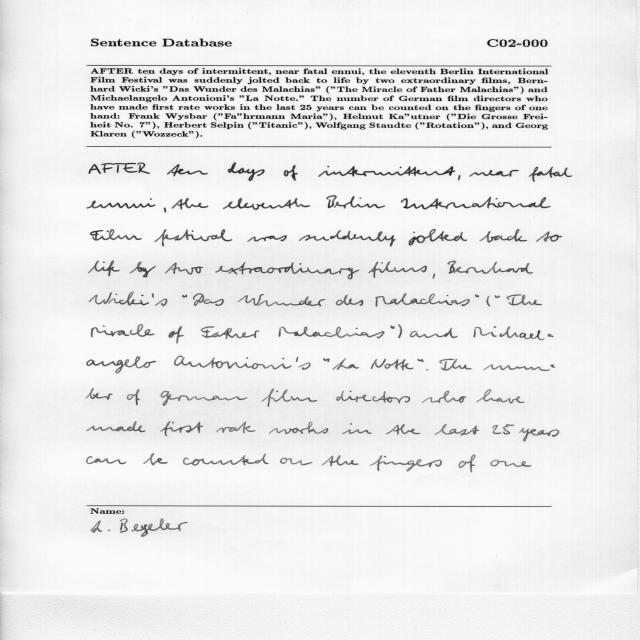word: (215, 262, 359, 279), (174, 355, 311, 370), (401, 197, 551, 209), (299, 230, 395, 247), (319, 166, 456, 177), (375, 293, 470, 307), (155, 229, 233, 246), (161, 391, 247, 406), (279, 327, 385, 339), (87, 356, 156, 374), (370, 455, 442, 472), (448, 260, 533, 274), (474, 327, 554, 341), (89, 292, 168, 306), (183, 453, 268, 466), (262, 388, 318, 407), (238, 294, 326, 306), (223, 198, 310, 210), (408, 229, 467, 246), (368, 261, 427, 278), (336, 391, 410, 404), (91, 325, 155, 338), (326, 196, 385, 209), (201, 326, 259, 339), (476, 389, 525, 404), (269, 422, 328, 434), (87, 199, 155, 209), (89, 163, 150, 174), (228, 163, 265, 181), (480, 229, 527, 243), (529, 167, 572, 182), (90, 229, 142, 241), (161, 422, 204, 436), (87, 422, 145, 432), (519, 428, 559, 442), (422, 391, 466, 403), (435, 424, 479, 436), (484, 364, 555, 371), (165, 262, 203, 275), (167, 164, 208, 176), (410, 328, 458, 338), (371, 359, 414, 370), (89, 261, 120, 276), (216, 422, 256, 433), (130, 262, 156, 278), (322, 456, 359, 467), (193, 293, 224, 306), (172, 198, 208, 209), (506, 295, 542, 306), (439, 359, 472, 371), (386, 424, 421, 435), (469, 170, 519, 177), (143, 453, 168, 466), (332, 358, 359, 370), (86, 388, 113, 400), (87, 456, 127, 464), (342, 423, 371, 434), (459, 455, 476, 473), (336, 295, 363, 306), (168, 326, 184, 344), (491, 460, 532, 467), (536, 231, 562, 242), (247, 235, 287, 242), (493, 424, 515, 435), (284, 165, 298, 181), (280, 458, 312, 465), (127, 389, 140, 405), (398, 325, 402, 339), (486, 296, 490, 306), (323, 358, 330, 362), (418, 359, 424, 362), (475, 294, 479, 298), (391, 325, 395, 329), (182, 295, 187, 298), (495, 295, 500, 298), (433, 273, 435, 279), (458, 175, 460, 180), (164, 208, 166, 213), (427, 369, 429, 371)
